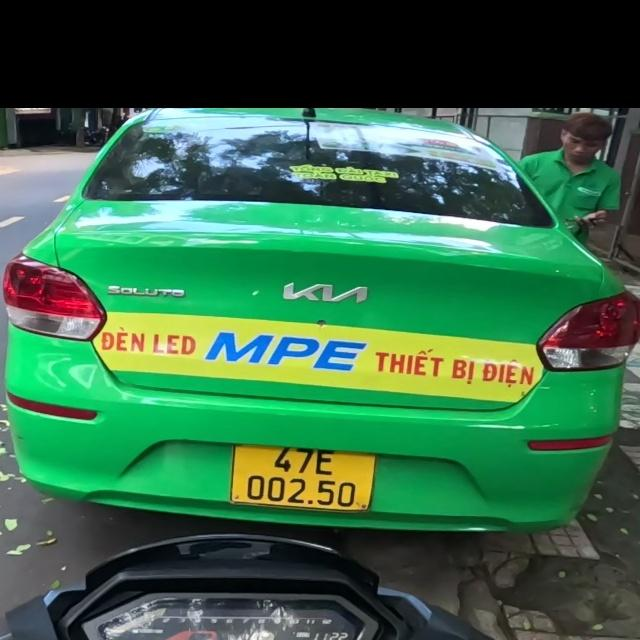license-plate: (231, 444, 374, 513)
